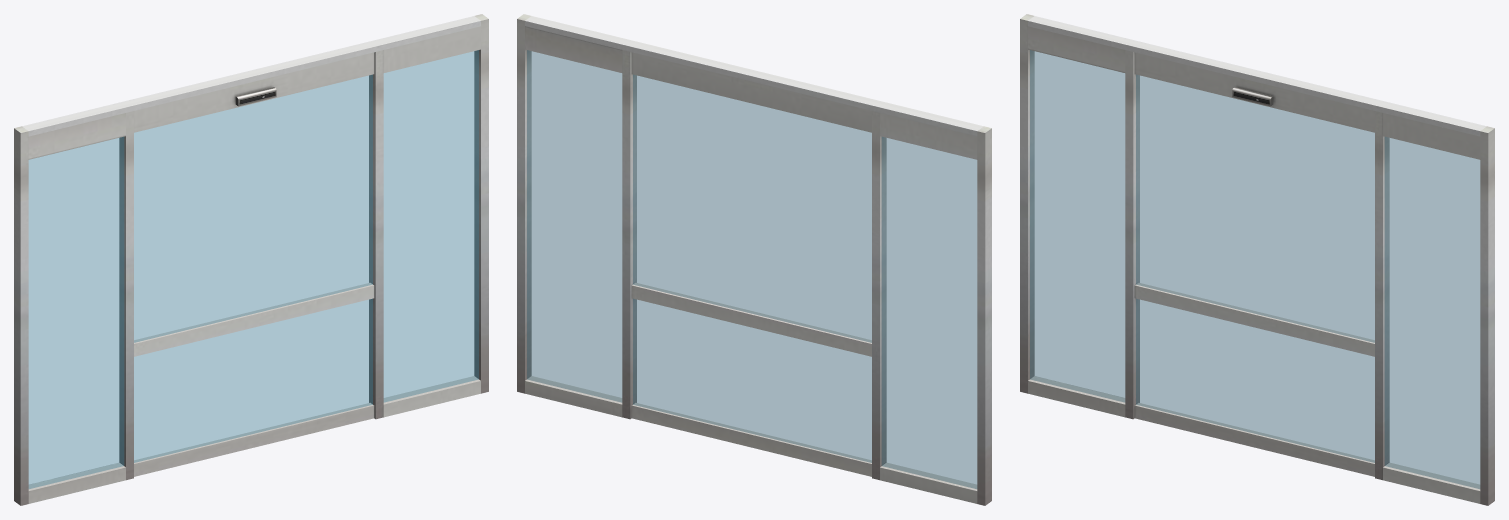
The model's file is AutomaticDoor2P.gltf.
3 renders of one model, left to right at view 1: azimuth 30°, elevation 25°; view 2: azimuth 150°, elevation 25°; view 3: azimuth 330°, elevation 25°, orthographic.
Parts seen in each view (by area): view 1: doorGlass_A, automaticDoor; view 2: doorGlass_A, automaticDoor; view 3: doorGlass_A, automaticDoor.
Part boxes in pixels (bbox=[...]): doorGlass_A: bbox=[29, 50, 478, 488]; automaticDoor: bbox=[14, 14, 488, 505]; doorGlass_A: bbox=[527, 50, 976, 488]; automaticDoor: bbox=[517, 14, 991, 505]; doorGlass_A: bbox=[1030, 50, 1479, 488]; automaticDoor: bbox=[1020, 14, 1494, 505].
Size of the model in its own units: 40 by 30.44 by 1.39.
2 materials, 2 textured.
